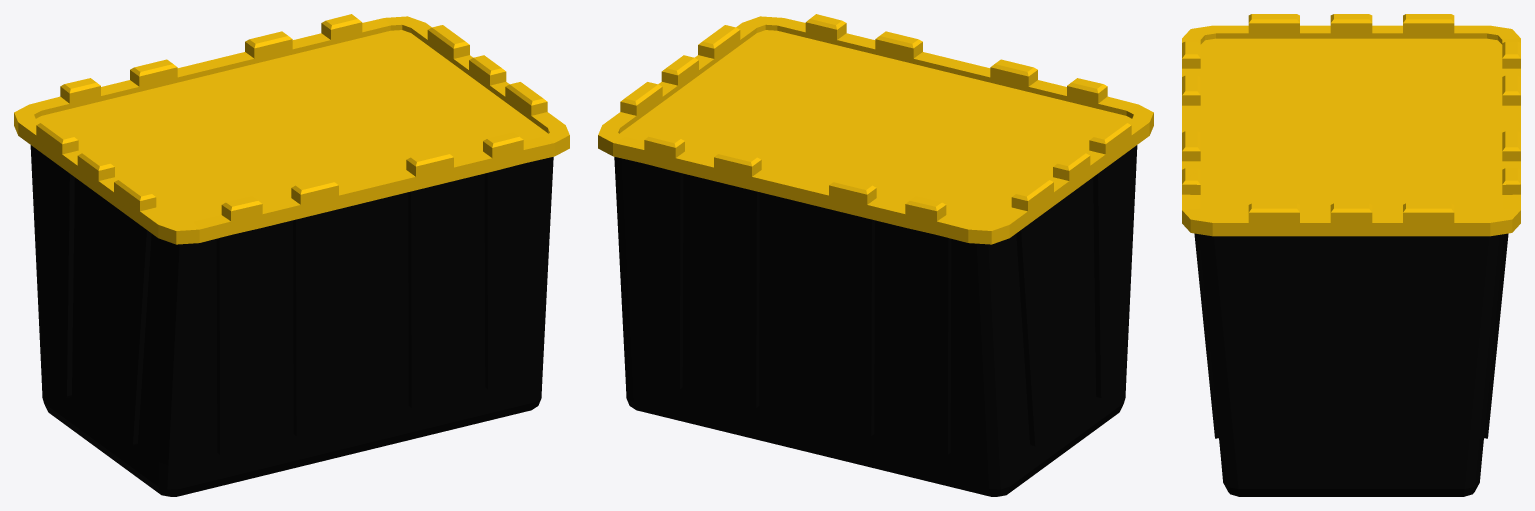
Rendered from BinBox.fbx.
3 renders of one model, left to right at view 1: azimuth 30°, elevation 25°; view 2: azimuth 150°, elevation 25°; view 3: azimuth 270°, elevation 25°, orthographic.
Visible parts, largest first — view 1: Bin_Box_Body, Bin_Lid; view 2: Bin_Box_Body, Bin_Lid; view 3: Bin_Box_Body, Bin_Lid.
Boxes of the visible parts, <box> form: Bin_Box_Body: <box>30,145,553,496</box>; Bin_Lid: <box>14,14,569,244</box>; Bin_Box_Body: <box>614,145,1137,496</box>; Bin_Lid: <box>598,14,1153,244</box>; Bin_Box_Body: <box>1194,233,1508,496</box>; Bin_Lid: <box>1182,14,1520,236</box>.
Bounding box in the file's own units: 75.7 × 53.59 × 54.93.
